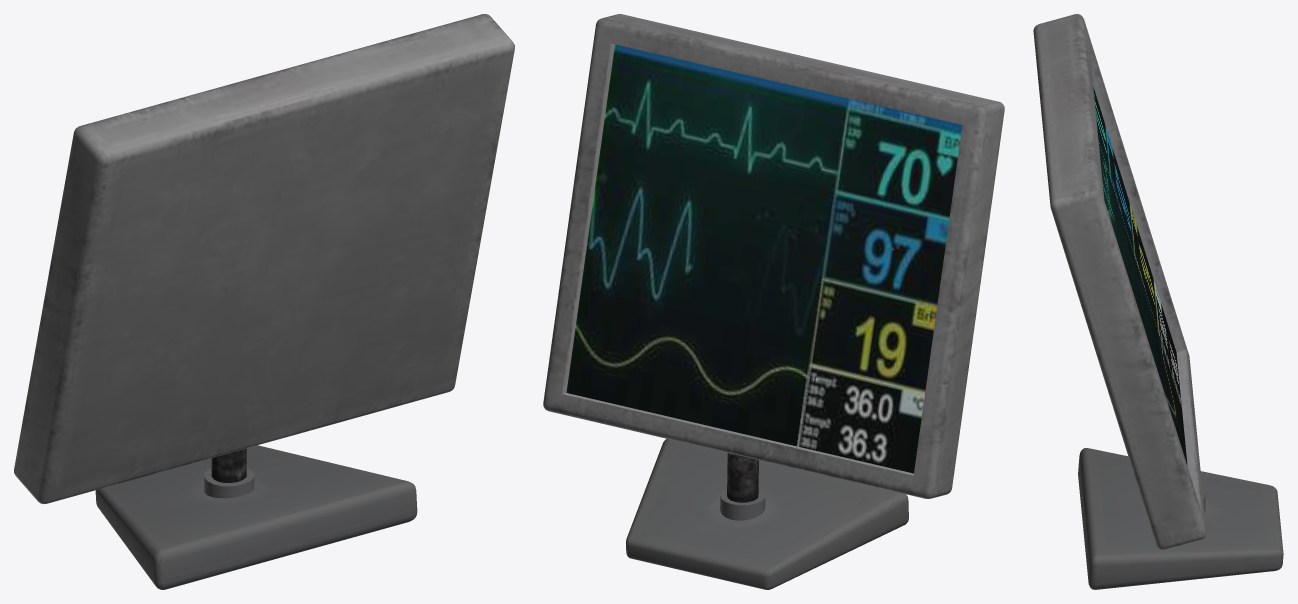
The model's file is monitor-vitalSings.glb.
The picture shows the model from 3 angles, left to right: view 1: azimuth 30°, elevation 25°; view 2: azimuth 150°, elevation 25°; view 3: azimuth 270°, elevation 25°; orthographic projection. The views are drawn at different scales.
Visible parts, largest first — view 1: Screen, Base; view 2: Screen, Base; view 3: Screen, Base.
Boxes of the visible parts, x1,y1,x2,y2 form: Screen: (14, 14, 514, 504); Base: (95, 445, 417, 589); Screen: (543, 14, 1004, 498); Base: (626, 439, 908, 589); Screen: (1033, 14, 1206, 549); Base: (1078, 448, 1283, 589).
Size of the model in its own units: 2.14 by 2.36 by 1.22.
1 material, 1 textured.
